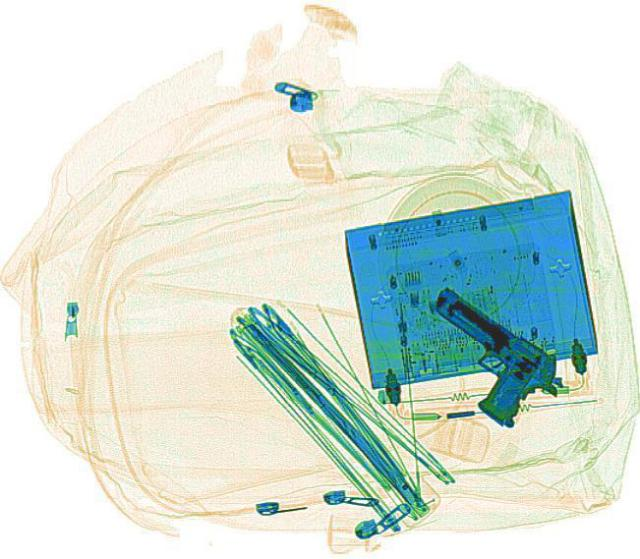Gun: (382, 280, 580, 433)
